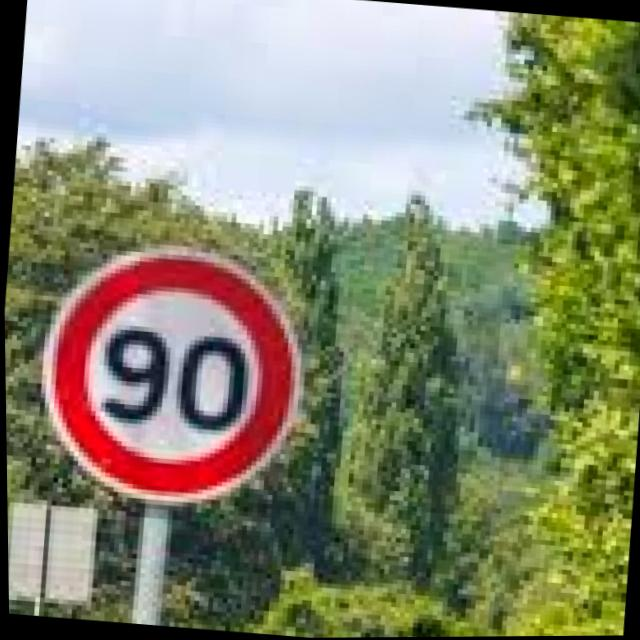Speed Limit -90-: (30, 239, 310, 519)
